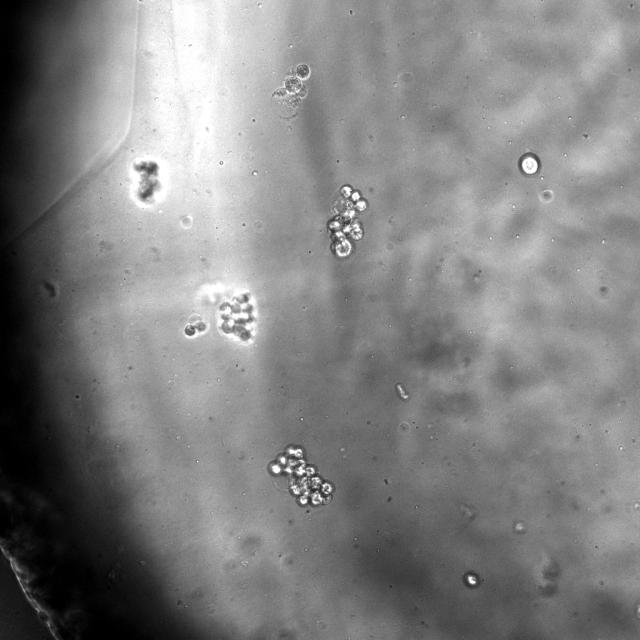organoid: (268, 444, 334, 507), (327, 184, 368, 259), (272, 63, 311, 116), (218, 292, 257, 342), (131, 158, 165, 207), (182, 314, 208, 339), (518, 152, 541, 175), (462, 570, 481, 588)
